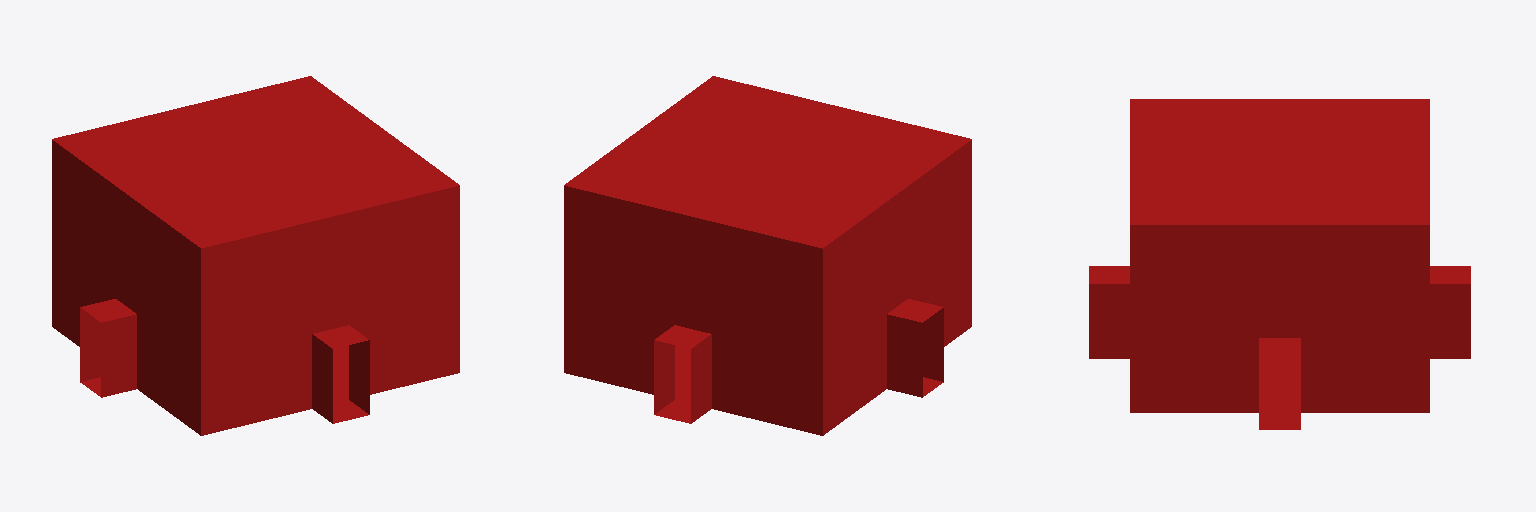
Rendered from Room_001.obj.
The picture shows the model from 3 angles: view 1: azimuth 30°, elevation 25°; view 2: azimuth 150°, elevation 25°; view 3: azimuth 270°, elevation 25°; orthographic projection.
Parts seen in each view (by area): view 1: Room; view 2: Room; view 3: Room.
Part boxes in pixels (left/top/right/bottom): Room: left=52, top=76, right=459, bottom=435; Room: left=564, top=76, right=971, bottom=435; Room: left=1089, top=99, right=1470, bottom=429.
Size of the model in its own units: 0.3187 by 0.1728 by 0.3187.